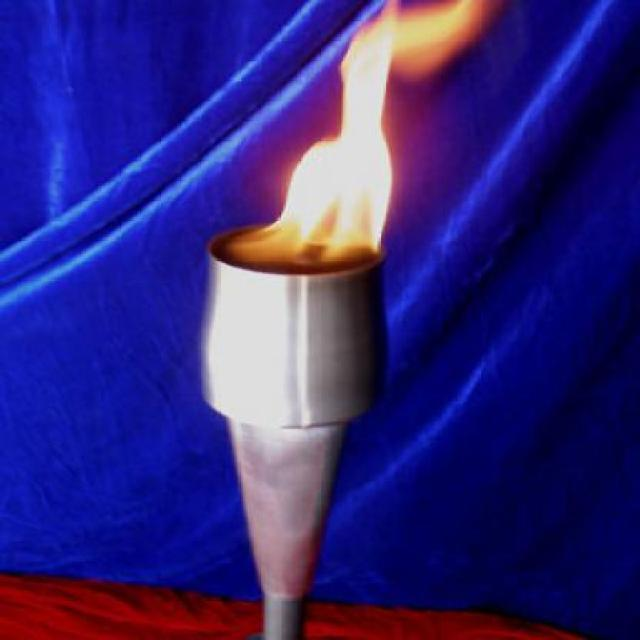Fire: (264, 1, 396, 259)
